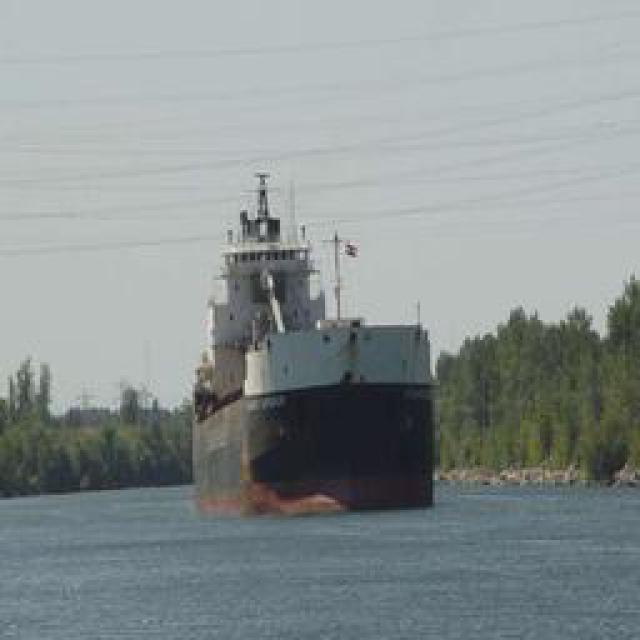Ship: (192, 164, 440, 514)
